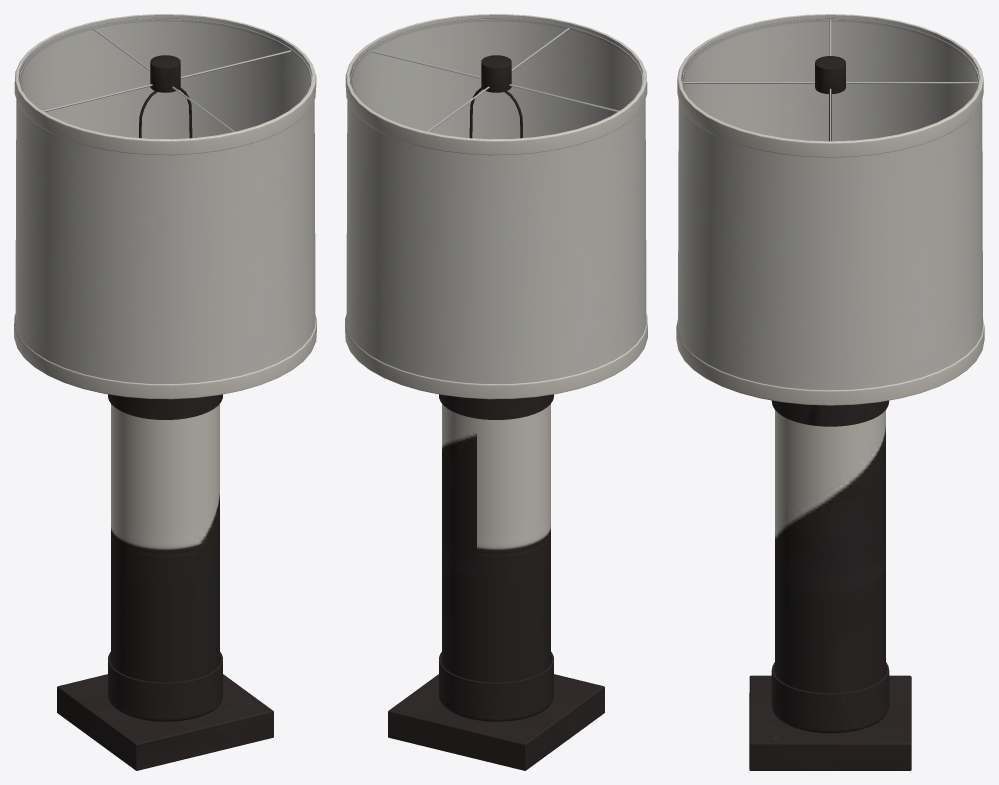
The model's file is B07374QFJ3.glb.
3 views of the same model, side by side, from view 1: azimuth 30°, elevation 25°; view 2: azimuth 150°, elevation 25°; view 3: azimuth 270°, elevation 25° (orthographic).
Visible parts, largest first — view 1: "$ALMKDBENOFCAAAAAICBAAAAAAAAAIOMJBPFE"; view 2: "$ALMKDBENOFCAAAAAICBAAAAAAAAAIOMJBPFE"; view 3: "$ALMKDBENOFCAAAAAICBAAAAAAAAAIOMJBPFE".
Boxes of the visible parts, x1=… form: "$ALMKDBENOFCAAAAAICBAAAAAAAAAIOMJBPFE": x1=14, y1=14, x2=316, y2=770; "$ALMKDBENOFCAAAAAICBAAAAAAAAAIOMJBPFE": x1=345, y1=14, x2=647, y2=770; "$ALMKDBENOFCAAAAAICBAAAAAAAAAIOMJBPFE": x1=676, y1=14, x2=984, y2=770.
Bounding box in the file's own units: 0.2109 × 0.5094 × 0.2109.
1 material, 1 textured.
